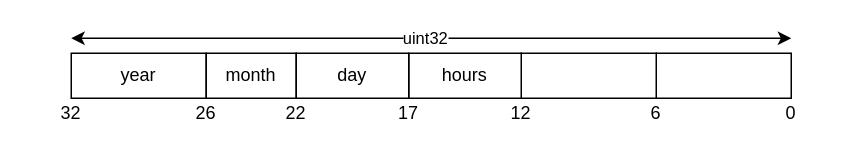
Some shapes in this 861 by 155 pixel diagram are drawn without their labels. The centre of each missing label's shape, as x and y in pixels:
"minutes" belongs at (x=588, y=75).
"seconds" belongs at (x=723, y=75).
